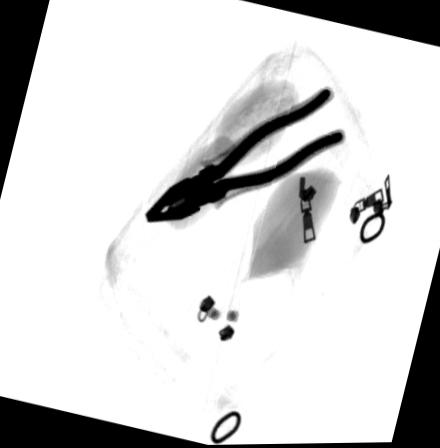Pliers: (144, 85, 345, 223)
